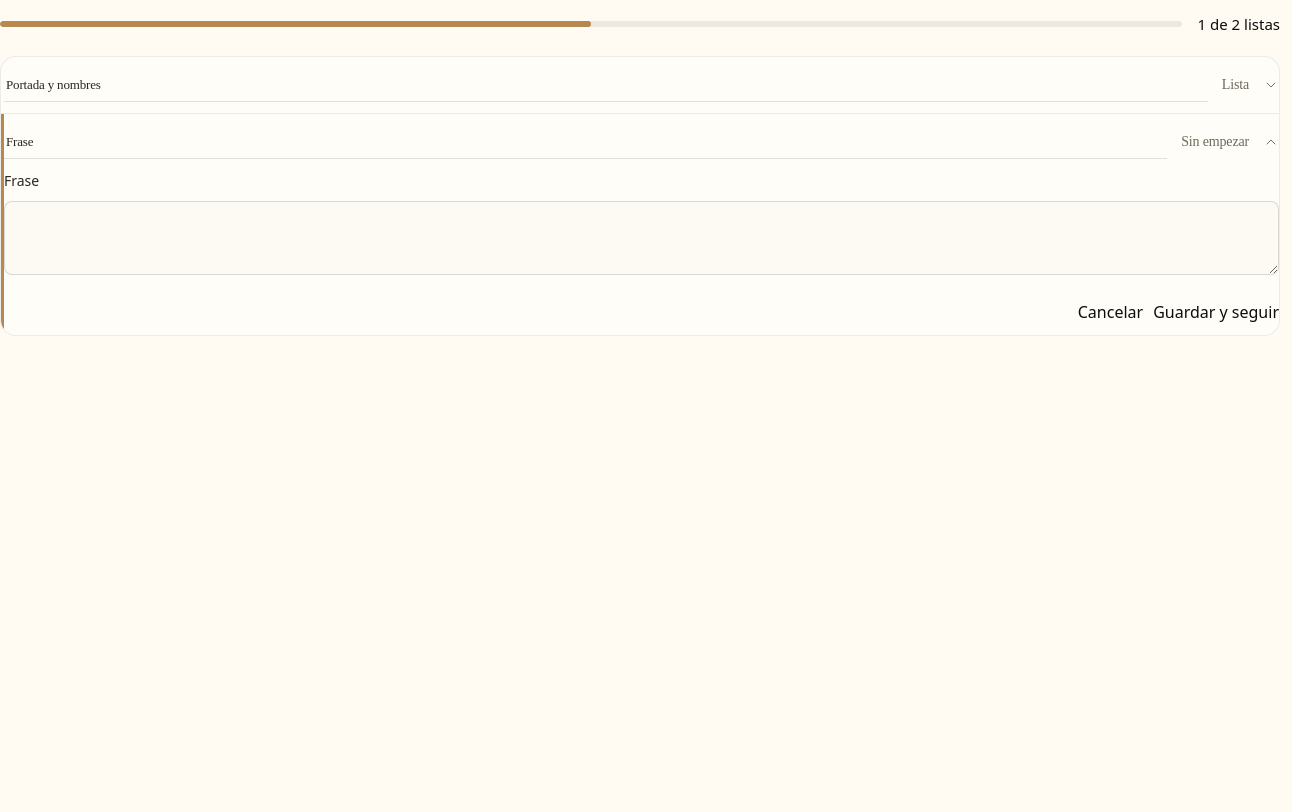
Test: ContentBlockForms › cada sección es una tarjeta que se abre de una en una, empezando por la que falta
Click the button "Portada y nombres Lista" at (642, 85), box [4,57,1279,113]
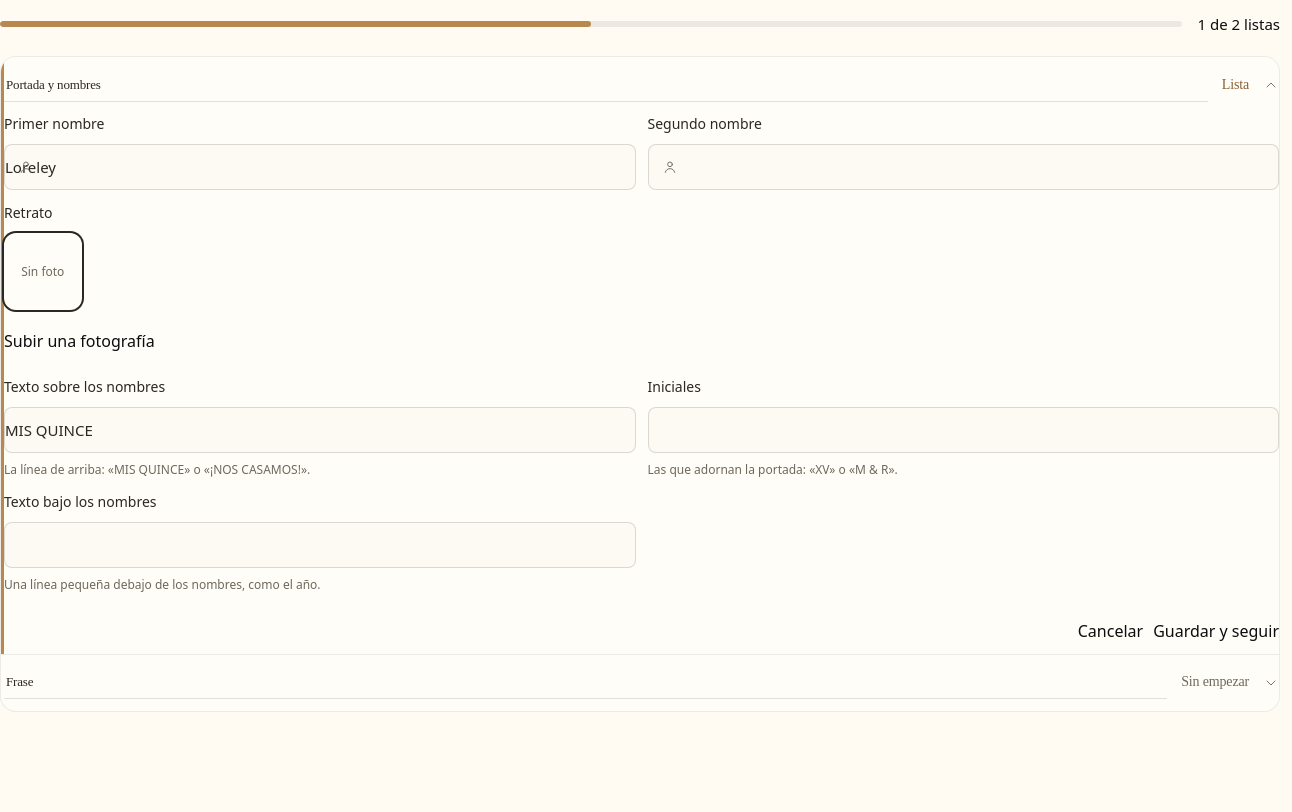
expect the button "Portada y nombres Lista" is expanded: met, box [4,57,1279,113]
expect the button "Frase Sin empezar" is collapsed: met, box [4,654,1279,710]
